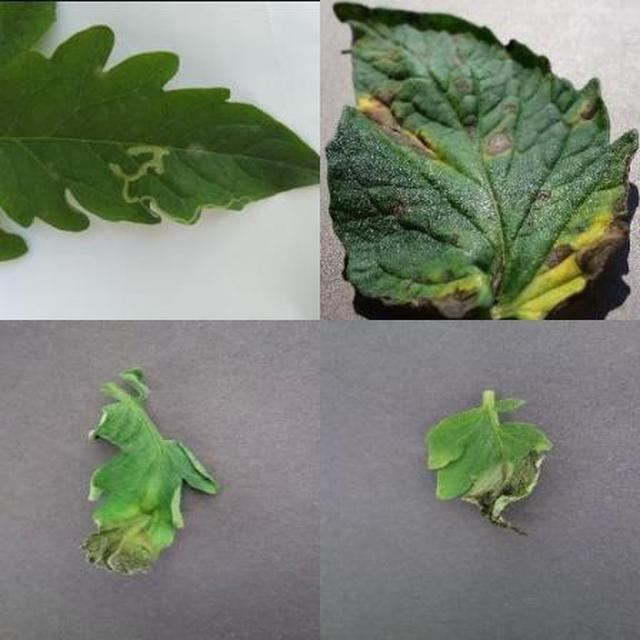Leaf Miner: (185, 184, 640, 640)
